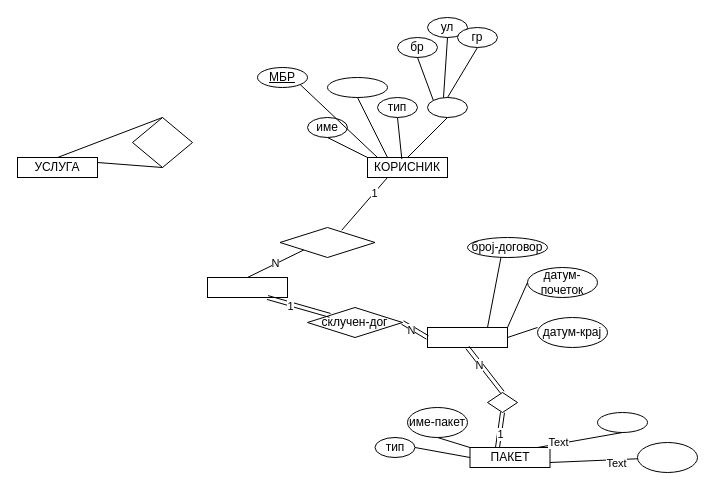
This 715x490 diagram has some shape labels left out. The shapes that lost their labels are listed below. From the top down, each one's centre as x and y in pixels, then its label:
At (x=357, y=87): "презиме".
At (x=447, y=107): "адреса".
At (x=162, y=142): "мој-круг".
At (x=327, y=242): "припаѓа-на".
At (x=247, y=287): "ТЕЛ.БР.".
At (x=467, y=337): "ДОГОВОР".
At (x=622, y=422): "шифра".
At (x=667, y=457): "претплата".
